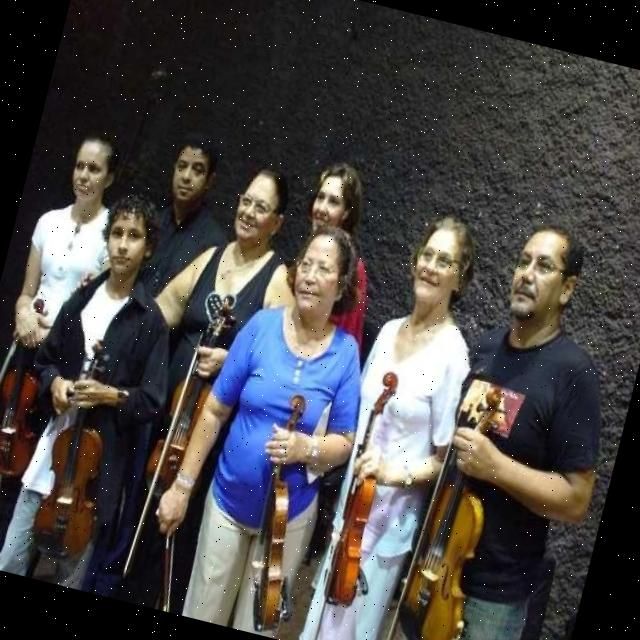violin: (384, 376, 525, 640), (17, 334, 140, 568), (230, 392, 338, 634), (314, 365, 414, 614), (138, 294, 248, 508), (0, 296, 69, 483)
